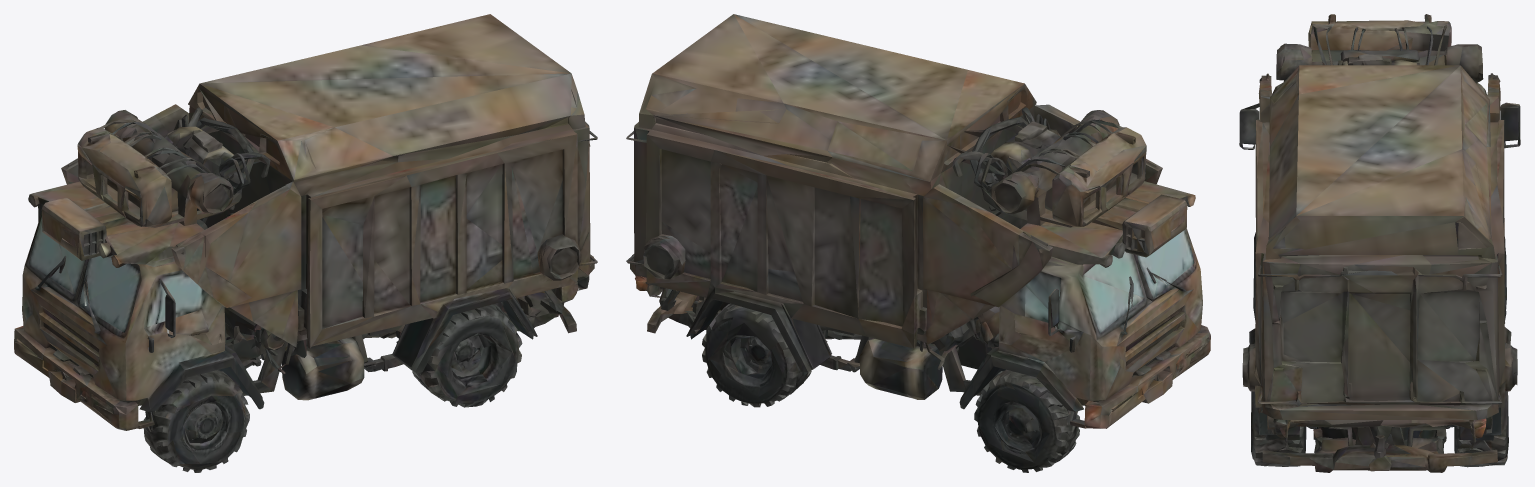
The model's file is mx_veh_garbage_truck.glb.
The picture shows the model from 3 angles, left to right: view 1: azimuth 30°, elevation 25°; view 2: azimuth 150°, elevation 25°; view 3: azimuth 270°, elevation 25°; orthographic projection. The views are drawn at different scales.
Size of the model in its own units: 1.9 by 1.1 by 0.9165.
1 material, 1 textured.
